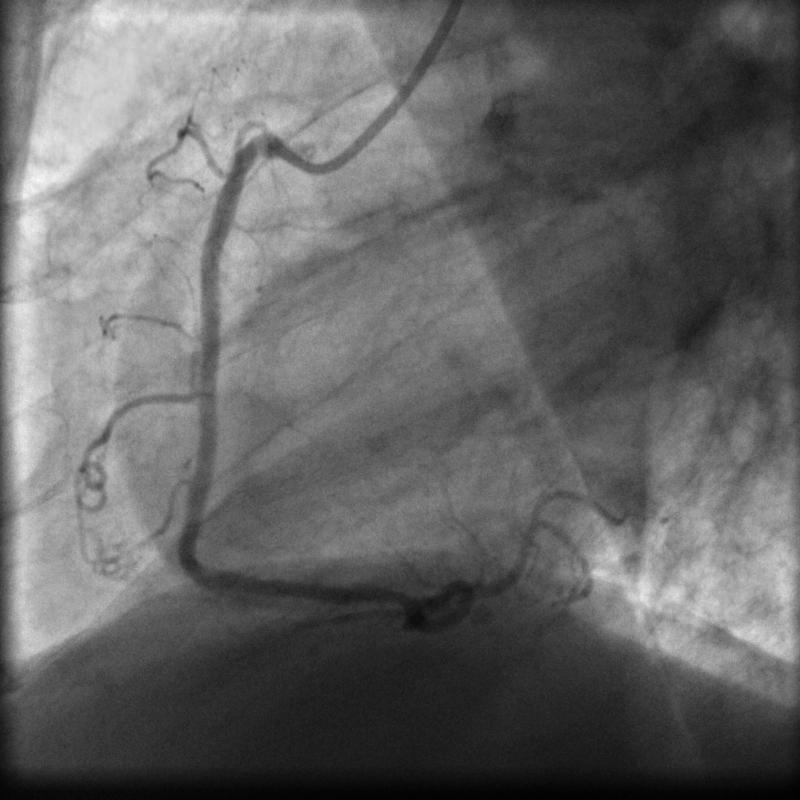Stenosis: (374, 575, 417, 619)
